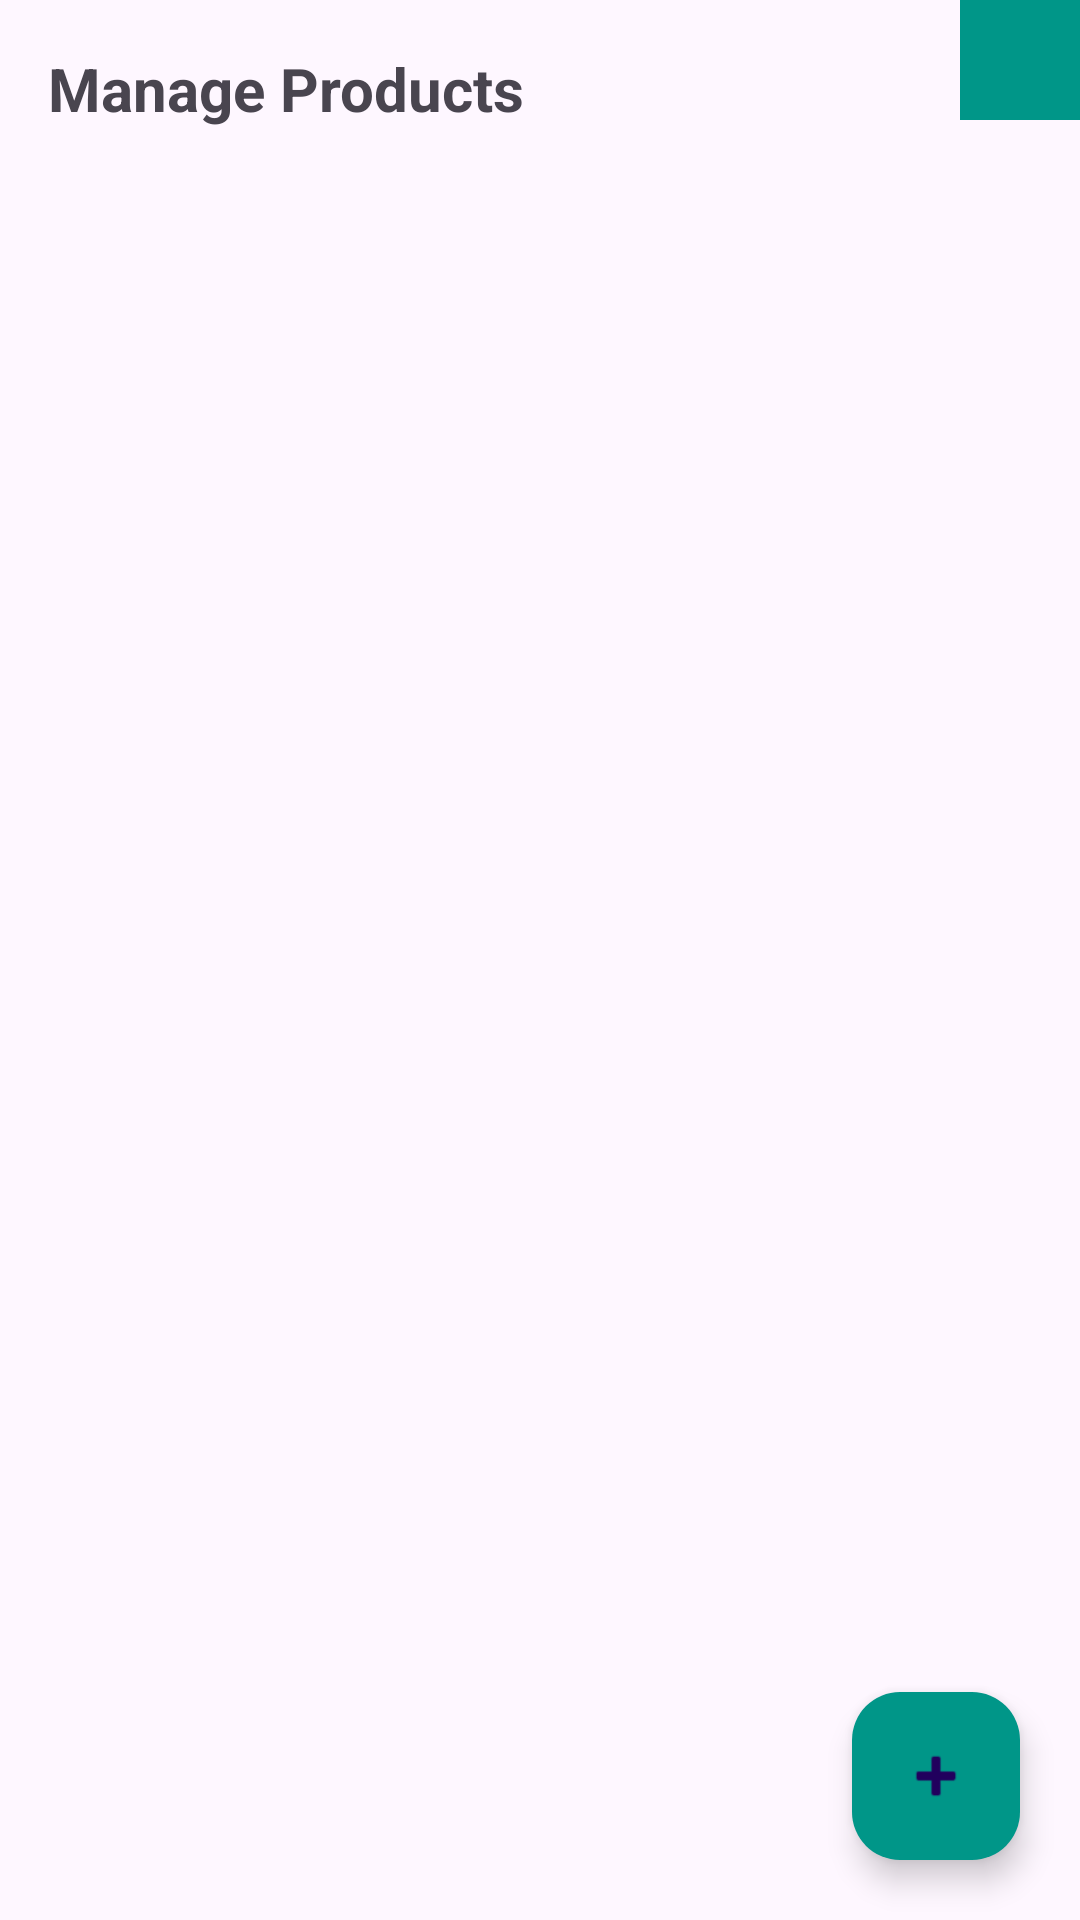

Screen size 1080px×1920px. Icon name, then its box in pixels as (x1, y1, x2, y2):
Add Product: (852, 1692, 1020, 1860)
